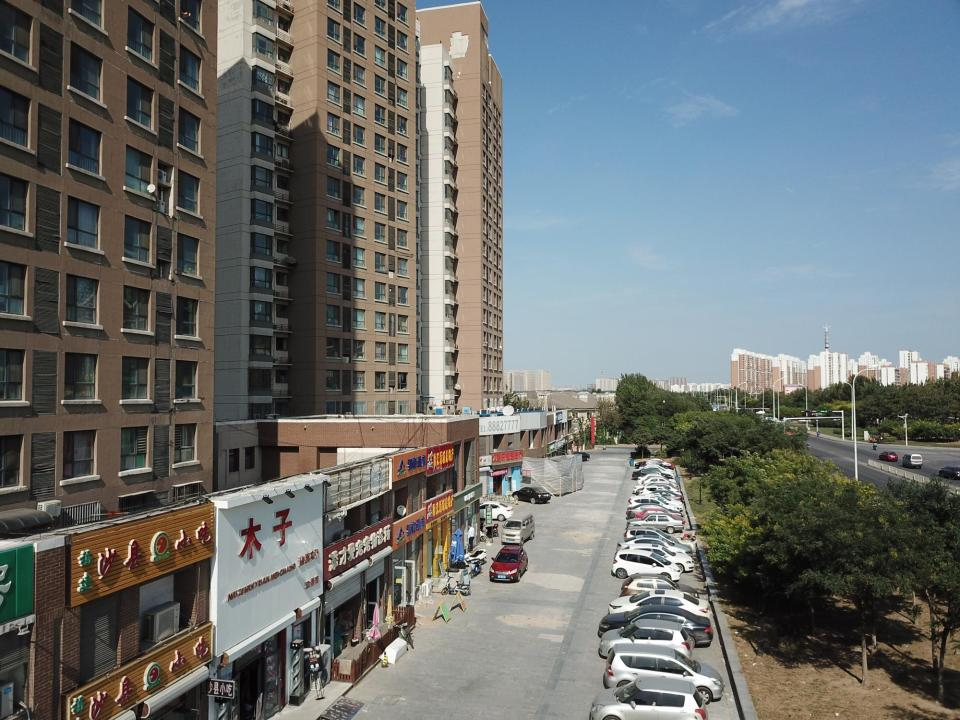car: (605, 643, 724, 705), (590, 676, 708, 720), (598, 604, 713, 648), (599, 618, 693, 660), (608, 590, 710, 620), (620, 572, 700, 608), (612, 549, 682, 583), (616, 544, 694, 574), (616, 534, 693, 560), (490, 545, 528, 583), (624, 526, 680, 547), (626, 513, 684, 533), (626, 503, 684, 519), (627, 496, 680, 513), (468, 502, 514, 520), (630, 495, 682, 510), (636, 490, 683, 506), (634, 509, 684, 524), (637, 486, 682, 501), (512, 487, 551, 504), (636, 484, 680, 498), (633, 482, 678, 494), (631, 468, 672, 481), (638, 474, 676, 485), (636, 466, 674, 476), (635, 459, 669, 470), (642, 476, 679, 486), (638, 464, 674, 474), (939, 466, 960, 480), (563, 452, 590, 461), (879, 450, 898, 461), (798, 419, 811, 424), (766, 417, 778, 421), (756, 410, 766, 414)
van: (502, 511, 535, 545), (902, 454, 922, 468), (721, 404, 727, 407)
